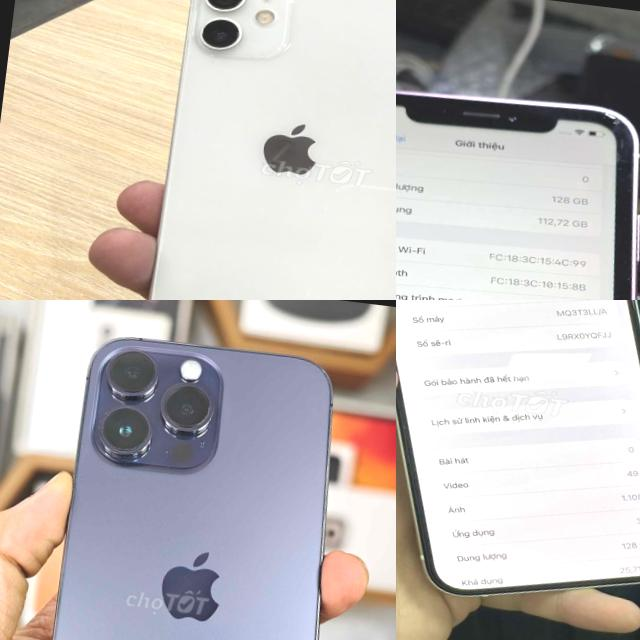scratch: (596, 103, 637, 140)
